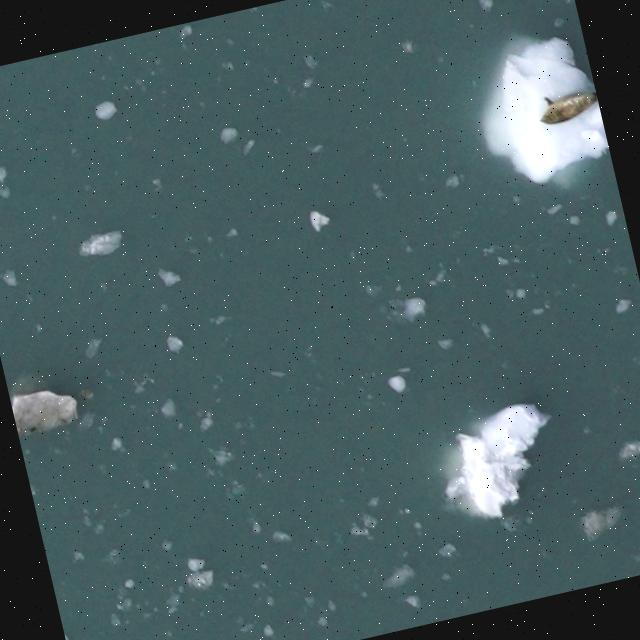seal: (528, 83, 602, 133)
